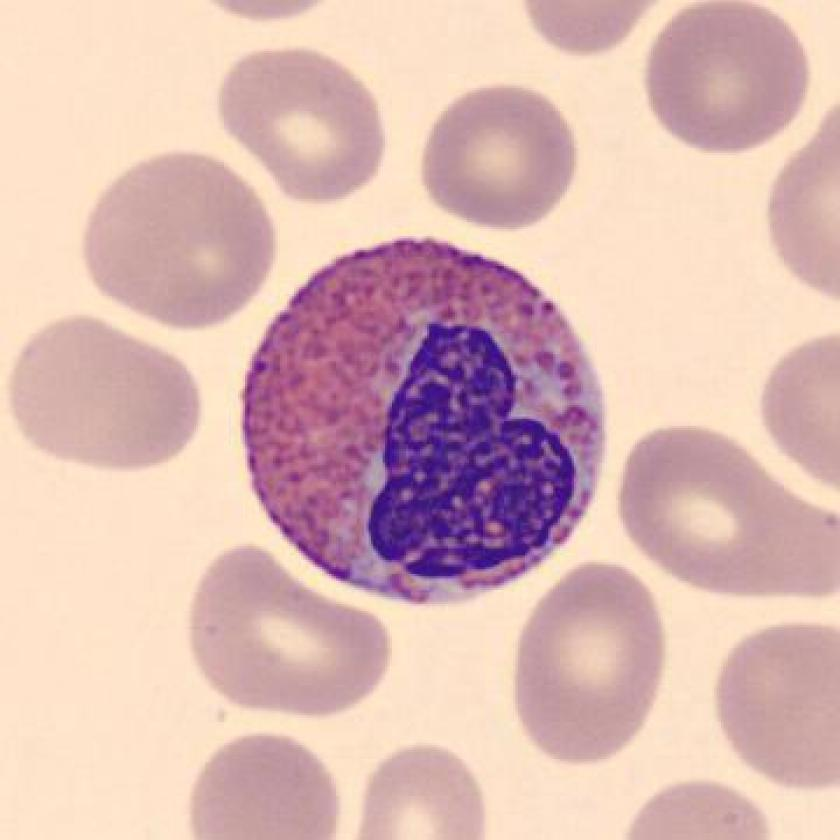eosinophil: (230, 225, 619, 612)
